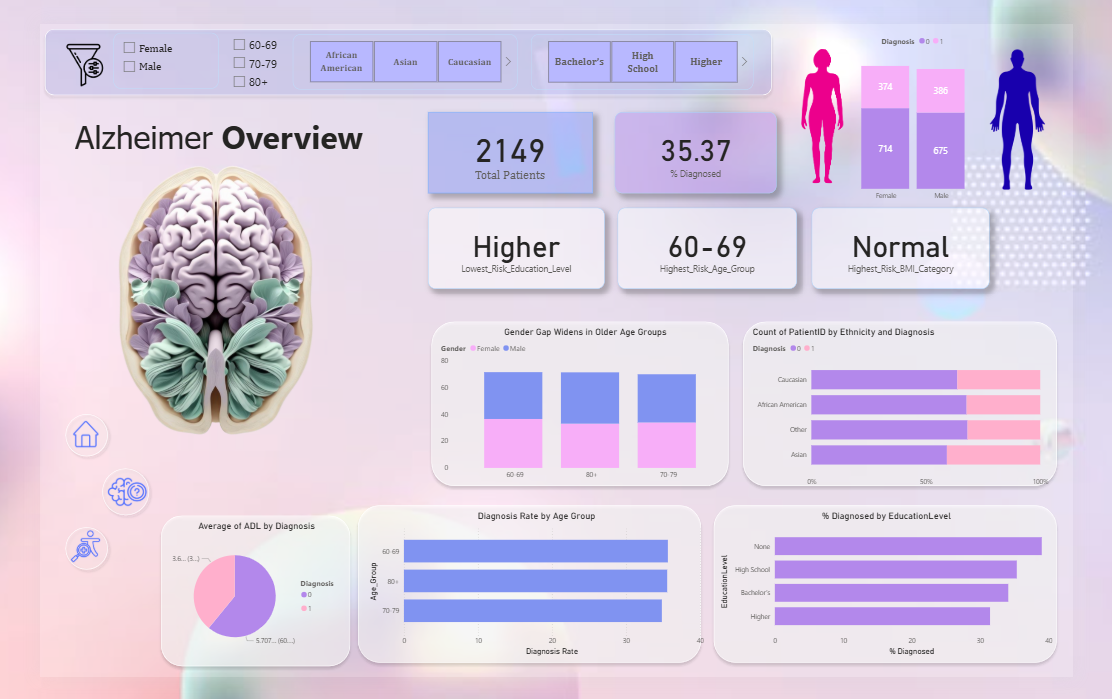

What the dashboard file says about the page in this screenshot:
{"tool":"powerbi","page":{"name":"Alzheimer’s Risk & Demographics Overview","canvas":[1900,1200],"ordinal":1},"visuals":[{"type":"image","box":[35.9,233.3,564.1,574.4],"z":0},{"type":"shape","box":[212.2,895.1,365.9,295.1],"z":1000},{"type":"shape","box":[0,0,1354.5,140],"z":2000},{"type":"shape","box":[710.3,538.5,564.1,320.5],"z":3000},{"type":"shape","box":[1284.6,538.5,594.9,320.5],"z":4000},{"type":"shape","box":[1230.8,876.9,648.7,307.7],"z":5000},{"type":"shape","box":[576.9,876.9,648.7,307.7],"z":6000},{"type":"card","fields":{"Values":["Count(cleaned_alzheimers_disease_data.PatientID)"]},"box":[712.8,161.5,302.6,148.7],"z":7000},{"type":"barChart","title":"Diagnosis Rate by Age Group","fields":{"Category":["cleaned_alzheimers_disease_data.Age_Group"],"Y":["cleaned_alzheimers_disease_data.Diagnosis Rate"]},"box":[600,894.9,625.6,271.8],"z":8000},{"type":"hundredPercentStackedBarChart","fields":{"Category":["cleaned_alzheimers_disease_data.Ethnicity"],"Y":["CountNonNull(cleaned_alzheimers_disease_data.PatientID)"],"Series":["cleaned_alzheimers_disease_data.Diagnosis"]},"box":[1305.1,556.4,553.8,302.6],"z":9000},{"type":"clusteredBarChart","fields":{"Y":["cleaned_alzheimers_disease_data.% Diagnosed"],"Category":["cleaned_alzheimers_disease_data.EducationLevel"]},"box":[1246.2,894.9,620.5,271.8],"z":10000},{"type":"slicer","fields":{"Values":["cleaned_alzheimers_disease_data.Age_Group"]},"box":[343.7,16.9,219.7,143.7],"z":11000},{"type":"slicer","fields":{"Values":["cleaned_alzheimers_disease_data.Gender"]},"box":[135.2,16.9,193,102.8],"z":12000},{"type":"slicer","fields":{"Values":["cleaned_alzheimers_disease_data.Ethnicity"]},"box":[464.8,19.7,412.7,101.4],"z":13000},{"type":"slicer","fields":{"Values":["cleaned_alzheimers_disease_data.EducationLevel"]},"box":[903.6,20,409.1,101.8],"z":14000},{"type":"columnChart","title":"Gender Gap Widens in Older Age Groups","fields":{"Category":["cleaned_alzheimers_disease_data.Age_Group"],"Y":["cleaned_alzheimers_disease_data.% Diagnosed"],"Series":["cleaned_alzheimers_disease_data.Gender"]},"box":[733.3,556.4,541,289.7],"z":15000},{"type":"image","box":[1384.6,5.1,141,330.8],"z":16000},{"type":"columnChart","title":"Gender Distribution by Diagnosis","fields":{"Category":["cleaned_alzheimers_disease_data.Gender"],"Y":["Count(cleaned_alzheimers_disease_data.PatientID)"],"Series":["cleaned_alzheimers_disease_data.Diagnosis"]},"box":[1414.1,9.9,385.9,322.5],"z":17000},{"type":"image","box":[1717.9,20.5,182.1,310.3],"z":18000},{"type":"card","fields":{"Values":["cleaned_alzheimers_disease_data.% Diagnosed"]},"box":[1056.4,161.5,297.4,148.7],"z":19000},{"type":"card","title":"Highest Risk Age Group","fields":{"Values":["cleaned_alzheimers_disease_data.Highest_Risk_Age_Group"]},"box":[1061,339,329.3,148.8],"z":20000},{"type":"card","fields":{"Values":["cleaned_alzheimers_disease_data.Lowest_Risk_Education_Level"]},"box":[712.2,339,324.4,148.8],"z":21000},{"type":"card","fields":{"Values":["cleaned_alzheimers_disease_data.Highest_Risk_BMI_Category"]},"box":[1419.5,339,326.8,148.8],"z":22000},{"type":"textbox","box":[59,161.5,566.7,100],"z":23000},{"type":"shape","box":[36.6,707,95.8,95.8],"z":24000},{"type":"shape","box":[106.7,807.5,104.2,104.2],"z":25000},{"type":"shape","box":[36.6,916.9,95.8,95.8],"z":26000},{"type":"image","box":[40.6,721.9,87.5,66.7],"z":27000},{"type":"image","box":[36,922.7,98.7,74],"z":28000},{"type":"image","box":[115,825.8,89.2,69.2],"z":29000},{"type":"pieChart","fields":{"Category":["cleaned_alzheimers_disease_data.Diagnosis"],"Y":["Avg(cleaned_alzheimers_disease_data.ADL)"]},"box":[231.7,912.2,331.7,258.5],"z":30000},{"type":"image","box":[43.6,28.2,79.5,94.9],"z":31000}]}

Visuals, with their boxes in screenshot pixels (x1, y1, x2, y2), scaled from the page's 1900x1200 canvas onto the 1112x699 screenshot:
image: 21, 136, 351, 470
shape: 124, 521, 338, 693
shape: 0, 0, 793, 82
shape: 416, 314, 746, 500
shape: 752, 314, 1100, 500
shape: 720, 511, 1100, 690
shape: 338, 511, 717, 690
card - Count(cleaned_alzheimers_disease_data.PatientID): 417, 94, 594, 181
"Diagnosis Rate by Age Group" barChart: 351, 521, 717, 680
hundredPercentStackedBarChart - cleaned_alzheimers_disease_data.Ethnicity x CountNonNull(cleaned_alzheimers_disease_data.PatientID): 764, 324, 1088, 500
clusteredBarChart - cleaned_alzheimers_disease_data.% Diagnosed x cleaned_alzheimers_disease_data.EducationLevel: 729, 521, 1093, 680
slicer - cleaned_alzheimers_disease_data.Age_Group: 201, 10, 330, 94
slicer - cleaned_alzheimers_disease_data.Gender: 79, 10, 192, 70
slicer - cleaned_alzheimers_disease_data.Ethnicity: 272, 11, 514, 71
slicer - cleaned_alzheimers_disease_data.EducationLevel: 529, 12, 768, 71
"Gender Gap Widens in Older Age Groups" columnChart: 429, 324, 746, 493
image: 810, 3, 893, 196
"Gender Distribution by Diagnosis" columnChart: 828, 6, 1053, 194
image: 1005, 12, 1111, 193
card - cleaned_alzheimers_disease_data.% Diagnosed: 618, 94, 792, 181
"Highest Risk Age Group" card: 621, 197, 814, 284
card - cleaned_alzheimers_disease_data.Lowest_Risk_Education_Level: 417, 197, 607, 284
card - cleaned_alzheimers_disease_data.Highest_Risk_BMI_Category: 831, 197, 1022, 284
textbox: 35, 94, 366, 152
shape: 21, 412, 77, 468
shape: 62, 470, 123, 531
shape: 21, 534, 77, 590
image: 24, 421, 75, 459
image: 21, 537, 79, 581
image: 67, 481, 120, 521
pieChart - cleaned_alzheimers_disease_data.Diagnosis x Avg(cleaned_alzheimers_disease_data.ADL): 136, 531, 330, 682
image: 26, 16, 72, 72
